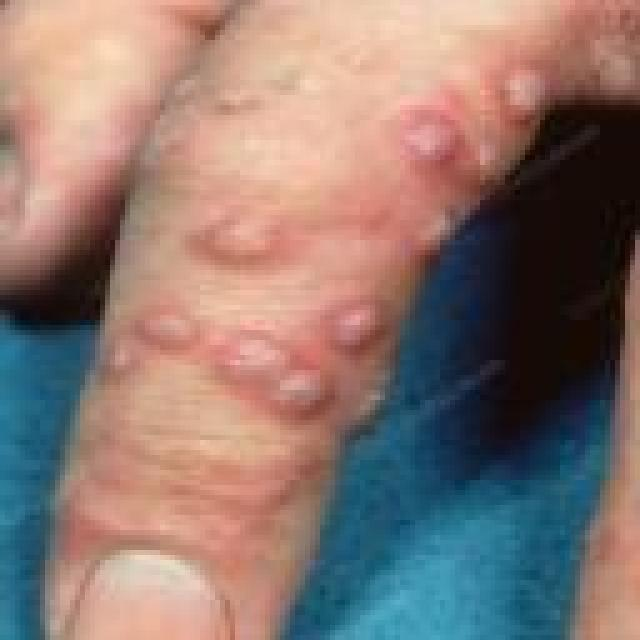Shingles: (87, 65, 541, 416)
